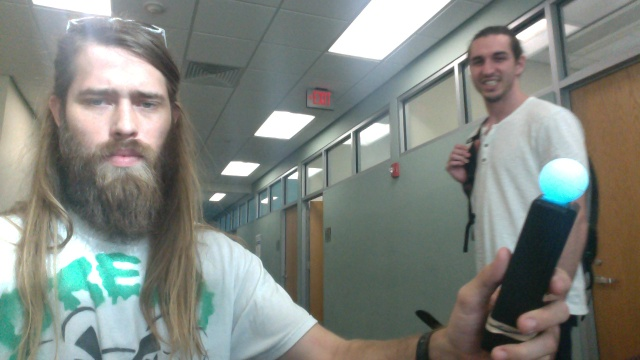wand: (538, 157, 589, 205)
